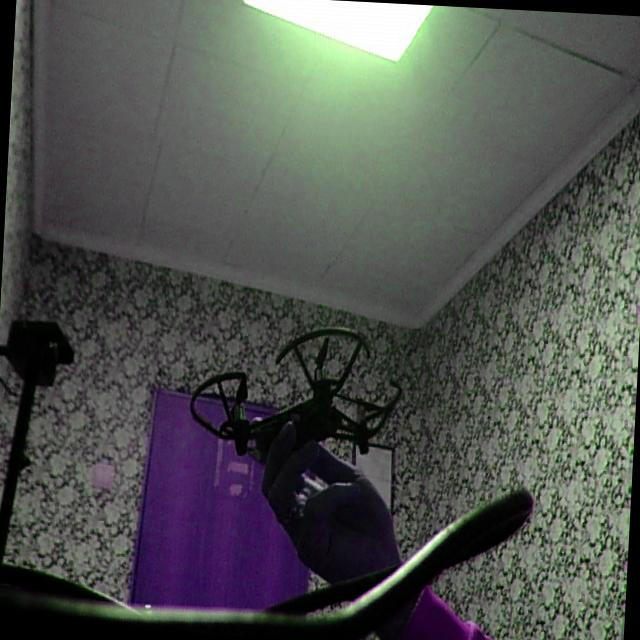drone: (176, 309, 414, 522)
